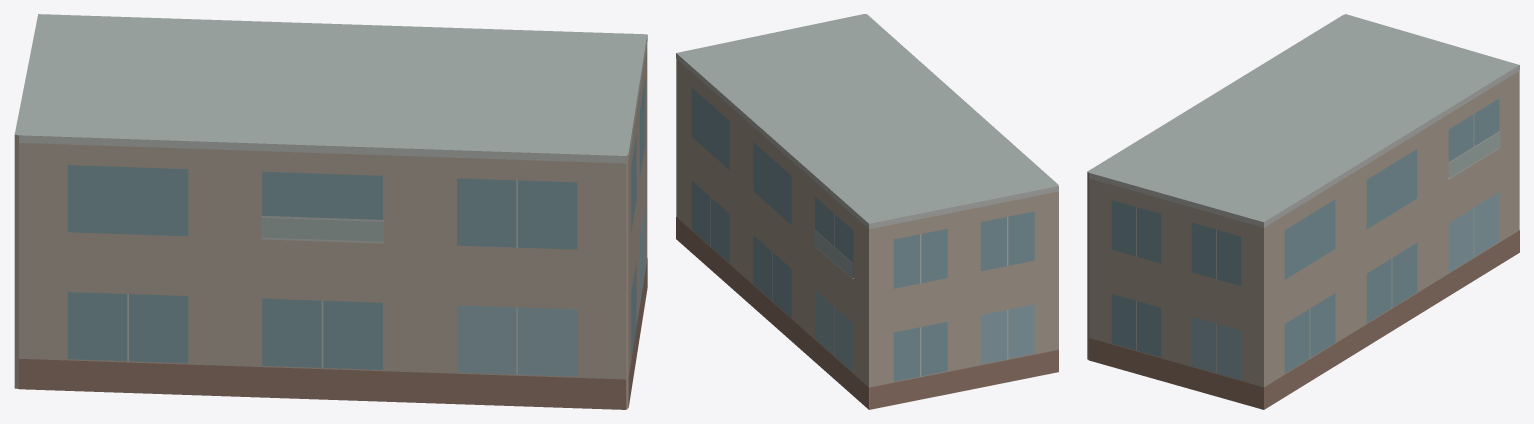
File: survey-upis-32855795.glb
3 views of the same model, side by side, from view 1: azimuth 30°, elevation 25°; view 2: azimuth 150°, elevation 25°; view 3: azimuth 270°, elevation 25° (orthographic). The views are drawn at different scales.
Visible parts, largest first — view 1: survey-upis-32855795.tmp; view 2: survey-upis-32855795.tmp; view 3: survey-upis-32855795.tmp.
Part boxes in pixels (bbox=[...]): survey-upis-32855795.tmp: bbox=[14, 14, 647, 409]; survey-upis-32855795.tmp: bbox=[676, 14, 1058, 409]; survey-upis-32855795.tmp: bbox=[1087, 14, 1519, 409].
Size of the model in its own units: 19.65 by 8.25 by 17.24.
